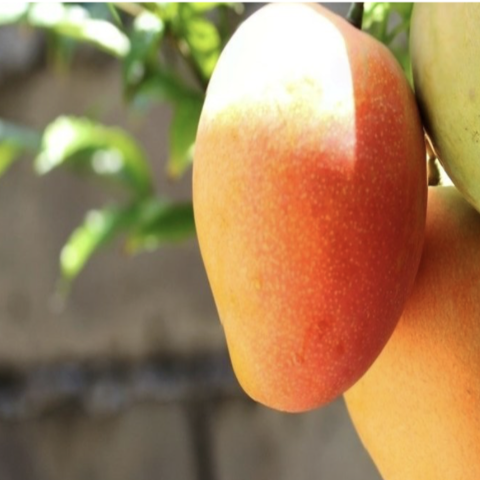mango: (171, 0, 461, 453)
